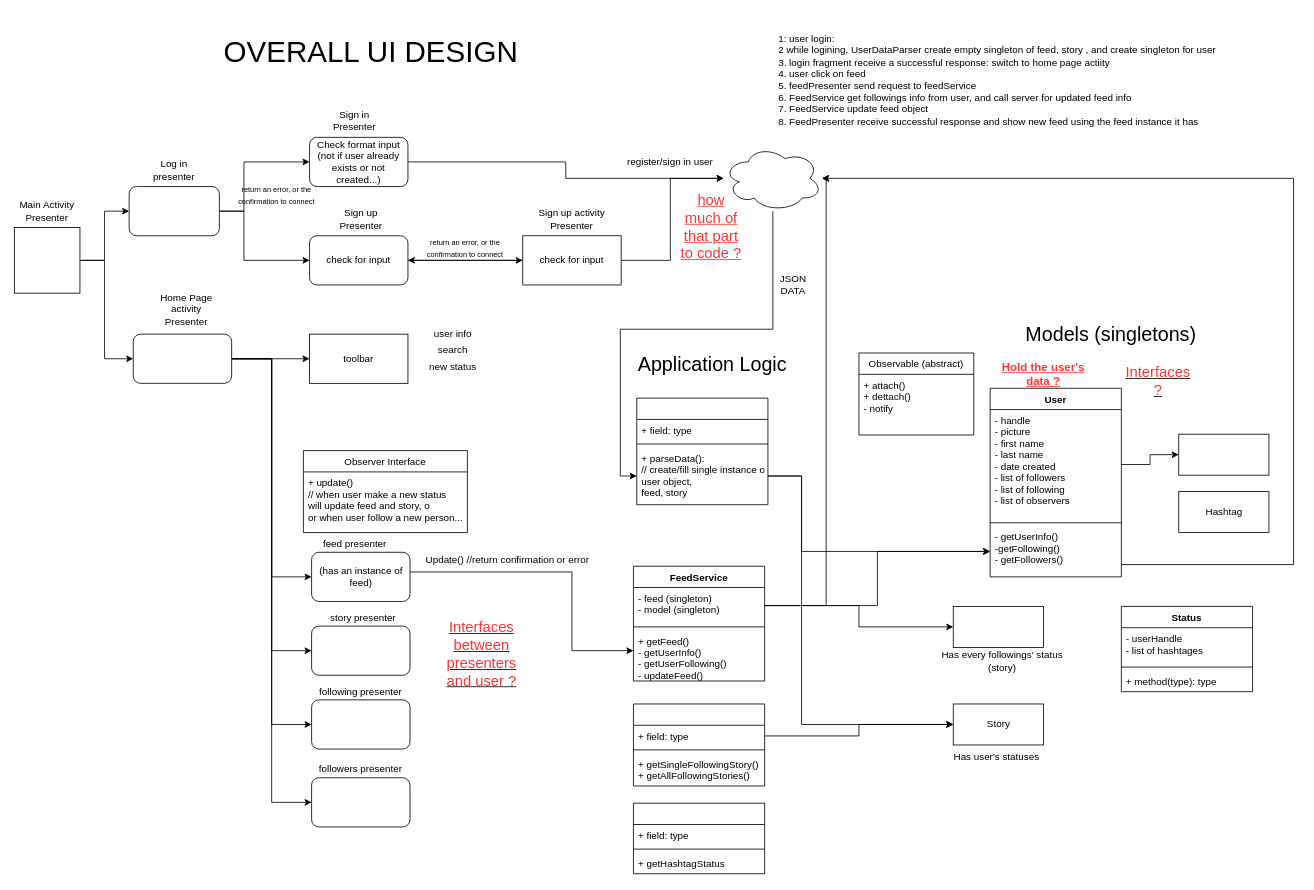
Image size: 1314x890. Some labels were removed from this diagram. The shapes that lost their labels are listed below. From the top down, each one's box as (x1, y1, x2, y2) in pixels, then its label:
(128, 186, 219, 236): display error or return successful log in
(636, 397, 768, 505): UserDataParser
(1178, 433, 1269, 475): Handle
(952, 606, 1043, 647): Feed
(633, 703, 765, 786): StoryService
(633, 802, 765, 874): HashtagService
